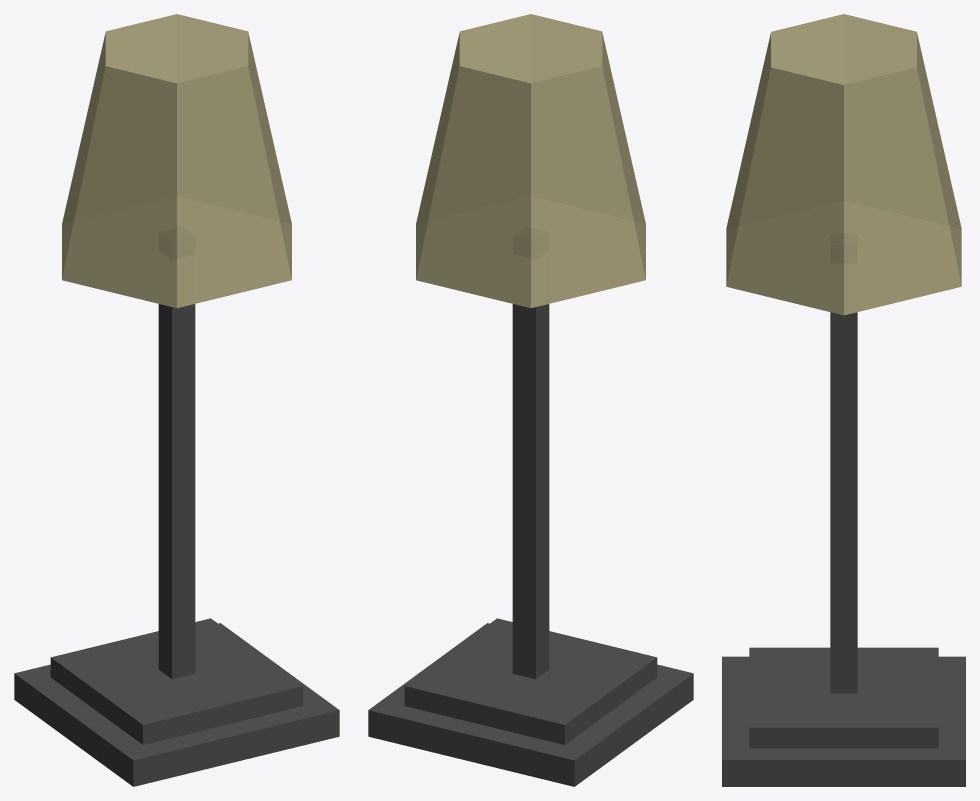
The model's file is LivingRoom_Lamp.fbx.
The picture shows the model from 3 angles, left to right: view 1: azimuth 30°, elevation 25°; view 2: azimuth 150°, elevation 25°; view 3: azimuth 270°, elevation 25°; orthographic projection. The views are drawn at different scales.
Visible parts, largest first — view 1: pCylinder2; view 2: pCylinder2; view 3: pCylinder2.
Part boxes in pixels (left/top/right/bottom): pCylinder2: left=14, top=14, right=339, bottom=786; pCylinder2: left=368, top=14, right=693, bottom=786; pCylinder2: left=722, top=14, right=965, bottom=786.
Bounding box in the file's own units: 1.12 × 3.1 × 1.
